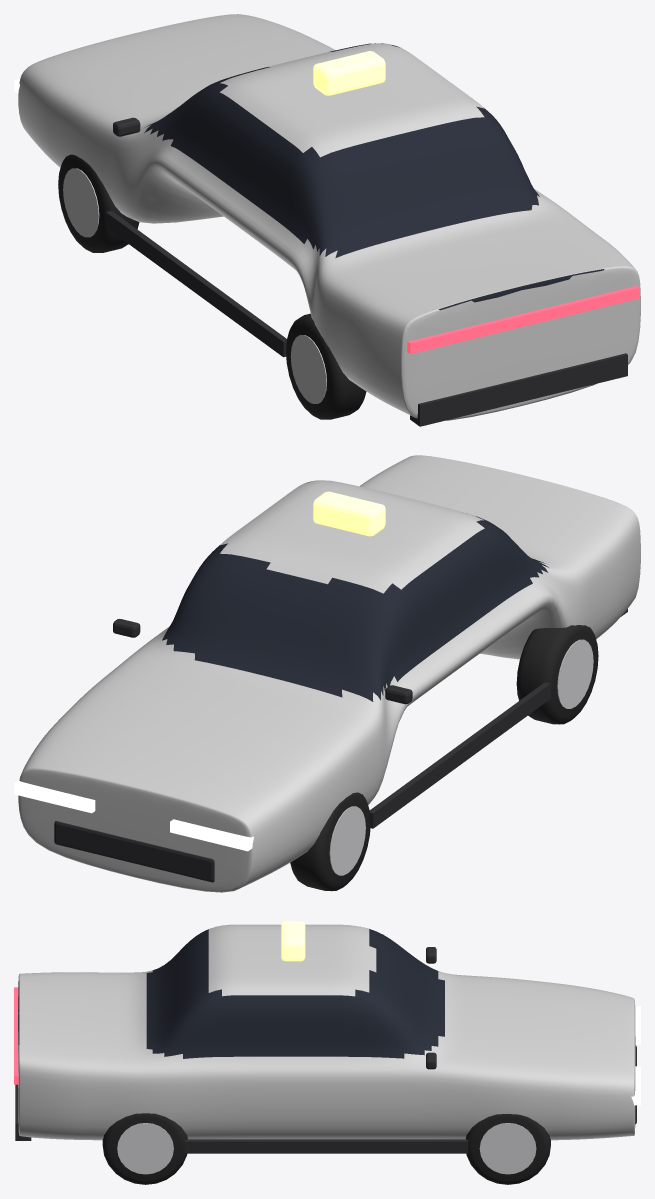
Rendered from car_taxi.glb.
3 renders of one model, top to bottom at view 1: azimuth 30°, elevation 25°; view 2: azimuth 150°, elevation 25°; view 3: azimuth 270°, elevation 25°, orthographic. The views are drawn at different scales.
Visible parts, largest first — view 1: paint, glass, trim, wheel_RL, wheel_FL, lamp_r; view 2: paint, glass, trim, wheel_RL, wheel_FL, lamp_f; view 3: paint, glass, trim, wheel_RR, wheel_FR, lamp_f, lamp_r.
Part boxes in pixels (left/top/right/bottom): paint: left=18, top=14, right=640, bottom=420; glass: left=144, top=43, right=604, bottom=310; trim: left=106, top=51, right=627, bottom=426; wheel_RL: left=286, top=313, right=366, bottom=419; wheel_FL: left=58, top=154, right=139, bottom=252; lamp_r: left=407, top=285, right=639, bottom=354; paint: left=18, top=455, right=640, bottom=892; glass: left=162, top=481, right=548, bottom=701; trim: left=54, top=491, right=627, bottom=882; wheel_RL: left=516, top=625, right=598, bottom=724; wheel_FL: left=290, top=792, right=370, bottom=891; lamp_f: left=14, top=780, right=253, bottom=851; paint: left=18, top=924, right=635, bottom=1140; glass: left=18, top=929, right=444, bottom=1058; trim: left=15, top=921, right=636, bottom=1153; wheel_RR: left=102, top=1113, right=187, bottom=1184; wheel_FR: left=466, top=1114, right=550, bottom=1184; lamp_f: left=631, top=1006, right=640, bottom=1105; lamp_r: left=14, top=987, right=18, bottom=1084.
Bounding box in the file's own units: 2.02 × 1.68 × 4.67.
